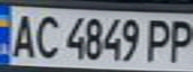4: (63, 12, 87, 61), (103, 15, 124, 62)
8: (81, 15, 106, 61)
9: (118, 15, 145, 63)
A: (3, 10, 39, 60)
C: (30, 11, 63, 60)
P: (142, 16, 175, 63), (163, 16, 193, 63)
